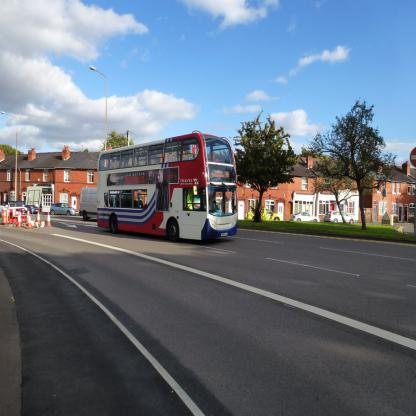Bus: (94, 133, 244, 245)
